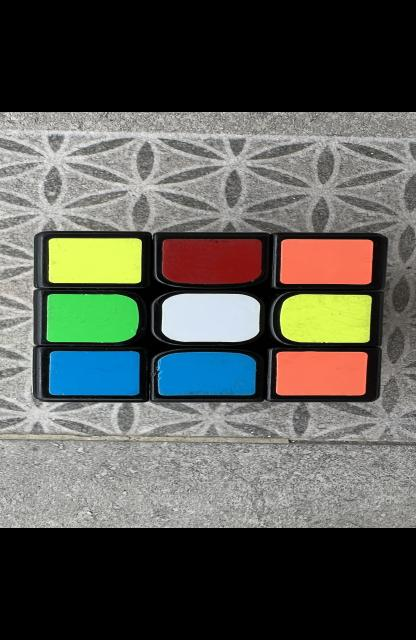Blue: (156, 352, 255, 396), (48, 351, 140, 396)
Green: (45, 294, 138, 343)
Orange: (280, 239, 373, 284), (275, 352, 366, 396)
Red: (161, 239, 261, 284)
White: (160, 293, 260, 342)
Yellow: (278, 294, 371, 343), (48, 238, 141, 283)
